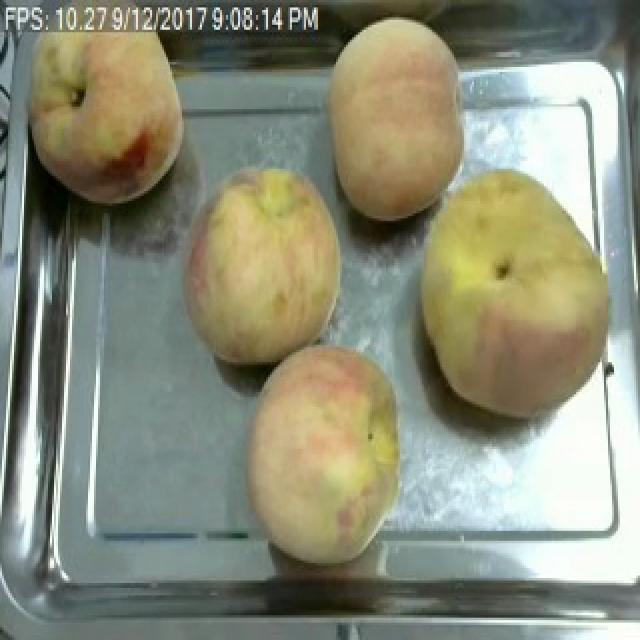Fruit: (404, 156, 628, 429), (238, 338, 414, 570), (174, 158, 352, 374), (312, 10, 476, 228), (10, 30, 196, 213)
